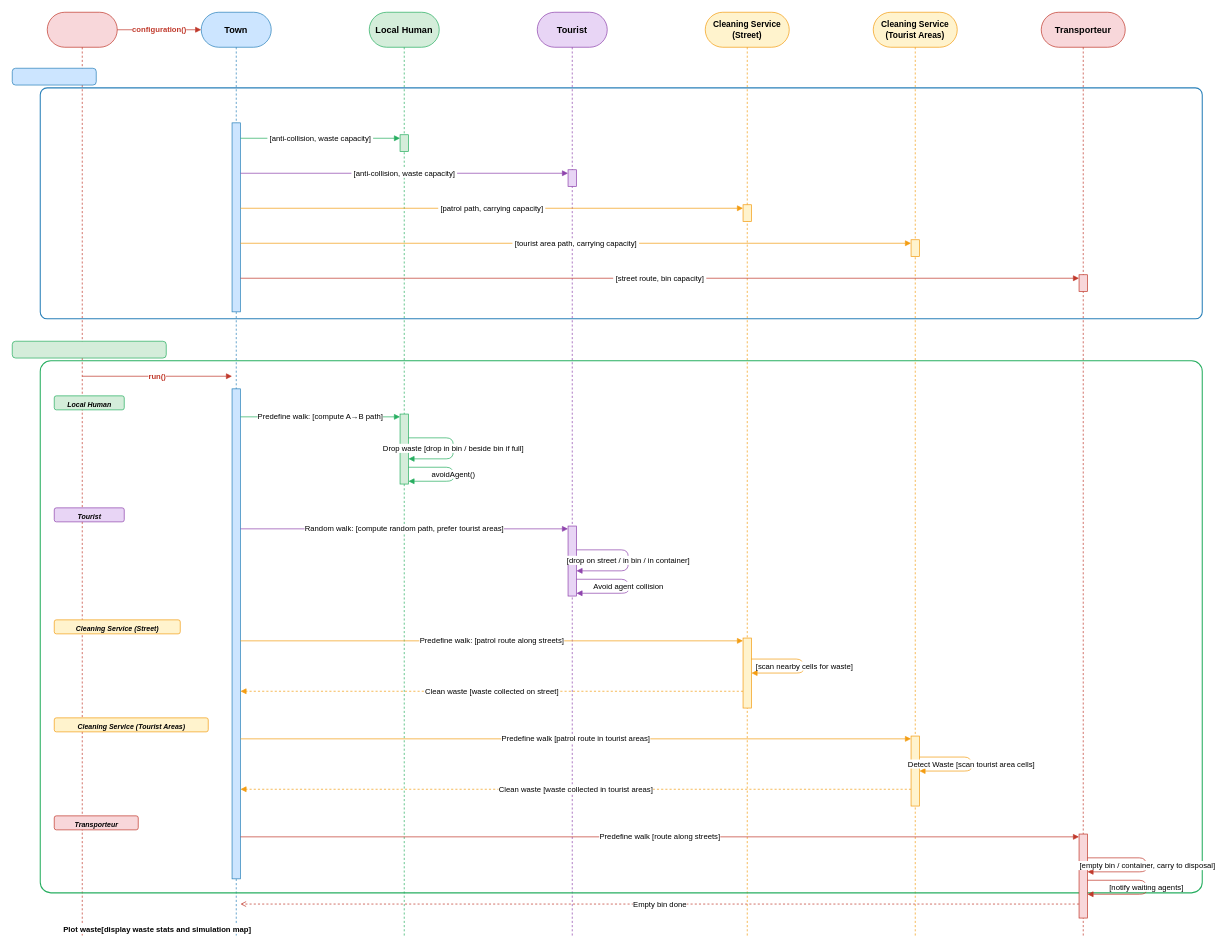
Image size: 1227x949. Some labels were removed from this diagram. Here are the shapes that lost their labels. From the top down, the centre of each, then its label:
At (x=82, y=29): "User".
At (x=54, y=76): "SETUP PHASE".
At (x=89, y=349): "RUN LOOP [each simulation tick]".
